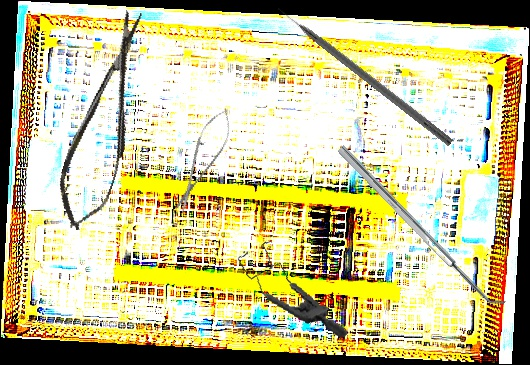Hook Surgical: (275, 2, 456, 147)
Micro Scissor: (45, 4, 167, 237), (165, 102, 240, 220)
Spatula Surgical: (337, 138, 507, 314)
Speculum: (226, 236, 361, 338)
